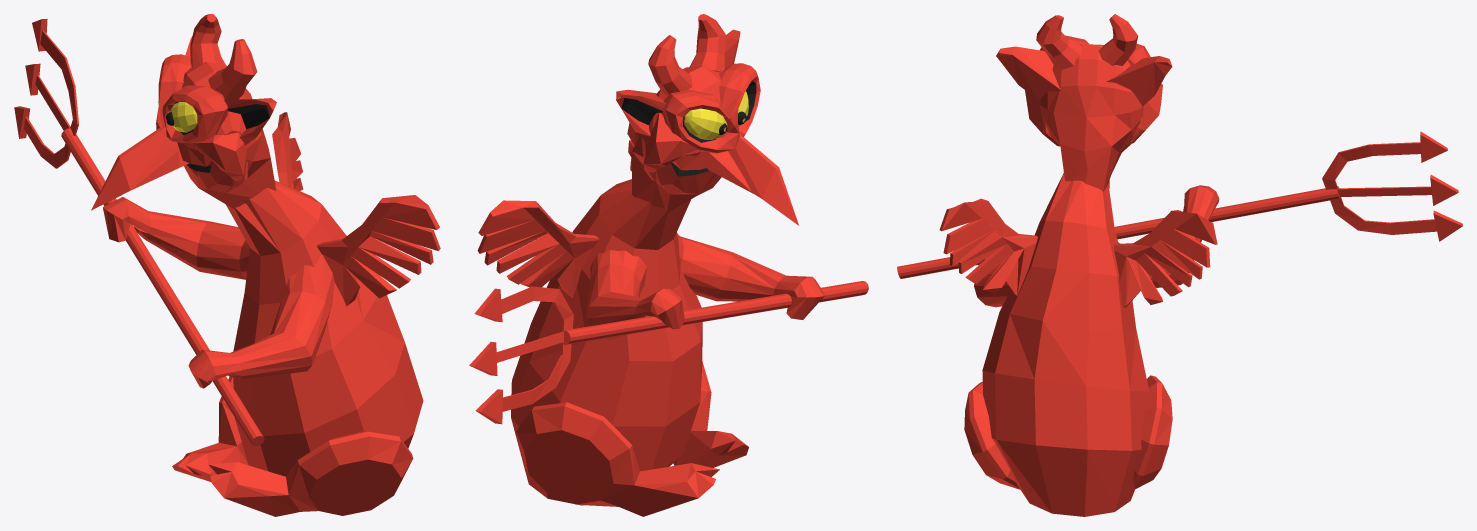
The model's file is cantuna.glb.
The picture shows the model from 3 angles, left to right: view 1: azimuth 30°, elevation 25°; view 2: azimuth 150°, elevation 25°; view 3: azimuth 270°, elevation 25°; orthographic projection. The views are drawn at different scales.
Visible parts, largest first — view 1: group1265753798, group889322421, group1394109701, group1744762788, group1117058401, group767642949, group2079220507, group1672142022, group1358416885, group2140169977, group501118731, group498556144 (+7 smaller); view 2: group1265753798, group2140169977, group804944674, group1744762788, group1672142022, group1117058401, group767642949, group2079220507, group889322421, group949702976, group1358416885, group501118731 (+6 smaller); view 3: group1265753798, group767642949, group804944674, group1394109701, group1672142022, group2079220507, group2140169977, group889322421, group972678801, group579410882, group1735709707, group931991871 (+3 smaller).
Part boxes in pixels (x1,y1,x2,y2): group1265753798: (226,180,423,476); group889322421: (208,431,413,516); group1394109701: (316,195,440,306); group1744762788: (188,254,334,388); group1117058401: (103,197,249,279); group767642949: (177,62,276,209); group2079220507: (61,128,264,446); group1672142022: (14,19,78,168); group1358416885: (91,125,188,210); group2140169977: (172,376,248,482); group501118731: (162,85,227,143); group498556144: (193,132,247,187); group1265753798: (511,179,702,505); group2140169977: (516,402,719,516); group804944674: (477,200,599,298); group1744762788: (677,233,825,319); group1672142022: (469,286,573,424); group1117058401: (586,250,684,339); group767642949: (632,66,721,212); group2079220507: (561,281,868,344); group889322421: (673,361,748,467); group949702976: (662,89,739,153); group1358416885: (728,133,798,225); group501118731: (719,63,760,136); group1265753798: (982,173,1149,516); group767642949: (1040,44,1143,191); group804944674: (1113,210,1217,307); group1394109701: (939,198,1037,295); group1672142022: (1322,131,1462,241); group2079220507: (897,186,1340,278); group2140169977: (1133,375,1172,488); group889322421: (964,382,1019,489); group972678801: (996,46,1062,99); group579410882: (1106,56,1172,106); group1735709707: (1036,15,1081,69); group931991871: (1098,14,1137,65).
Bounding box in the file's own units: 0.4761 × 0.7403 × 0.8688.
